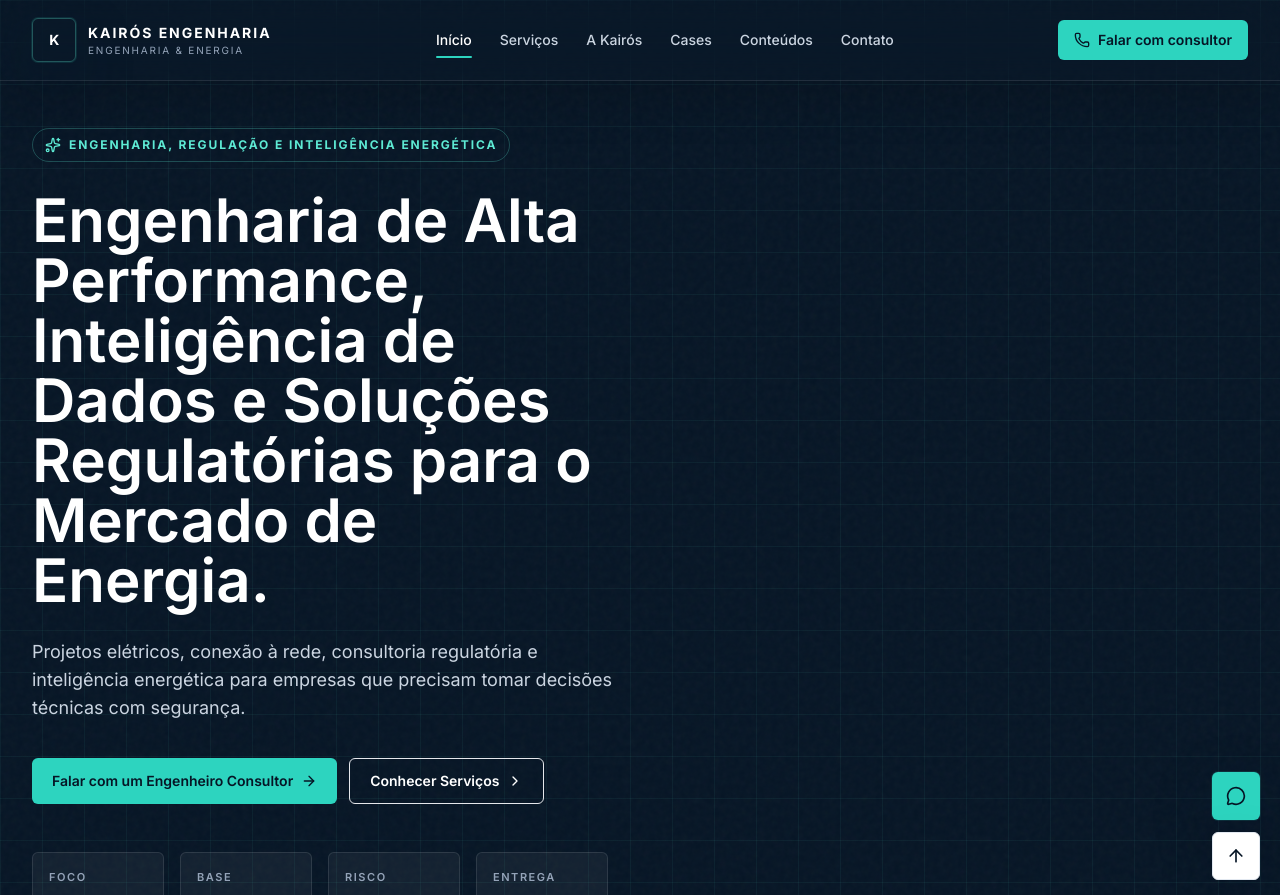
Scenario: Kairós Engenharia site › navega para serviços
Click the button "Conhecer Serviços" at (447, 781), box 349,758 -> 544,804
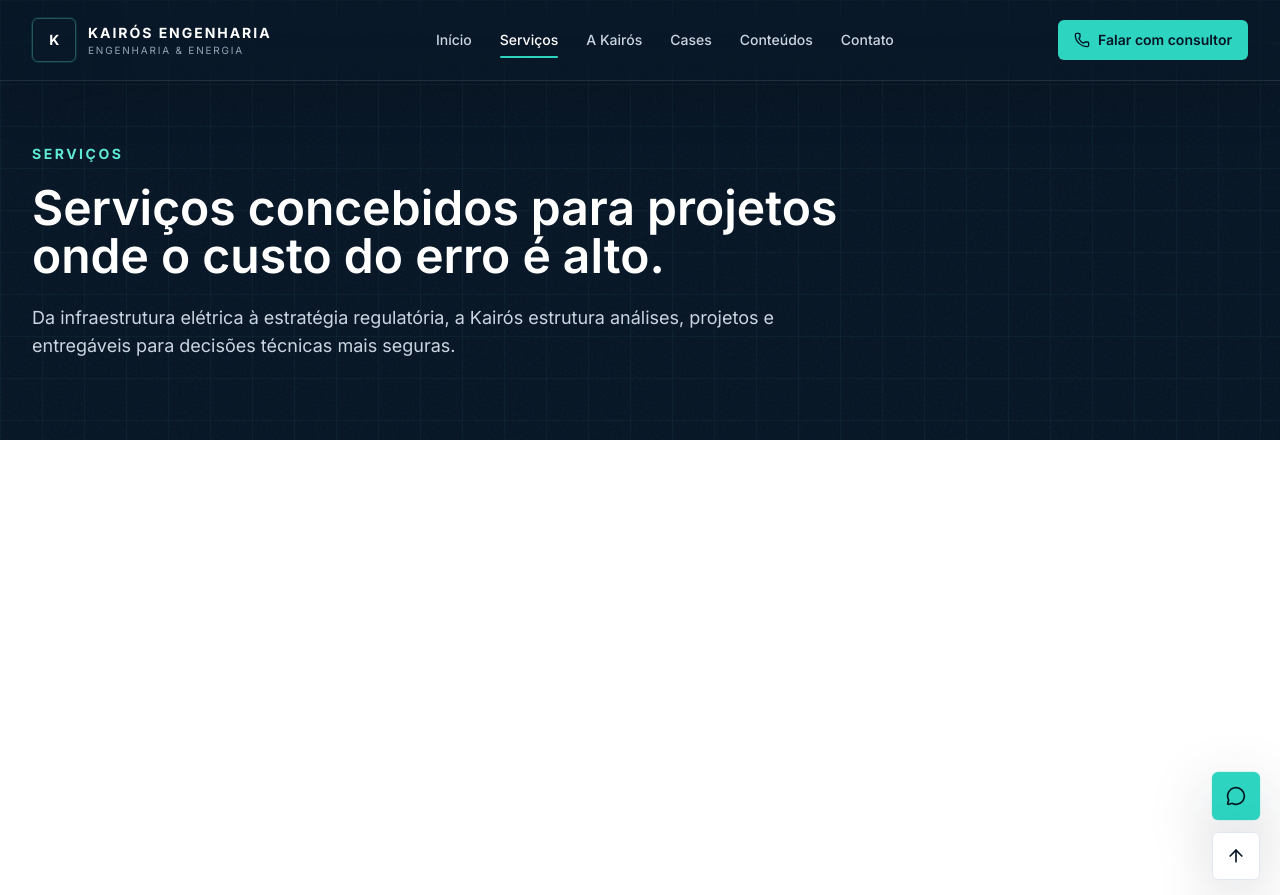
Result: the heading "Serviços concebidos" is shown at 32,184 -> 928,280
